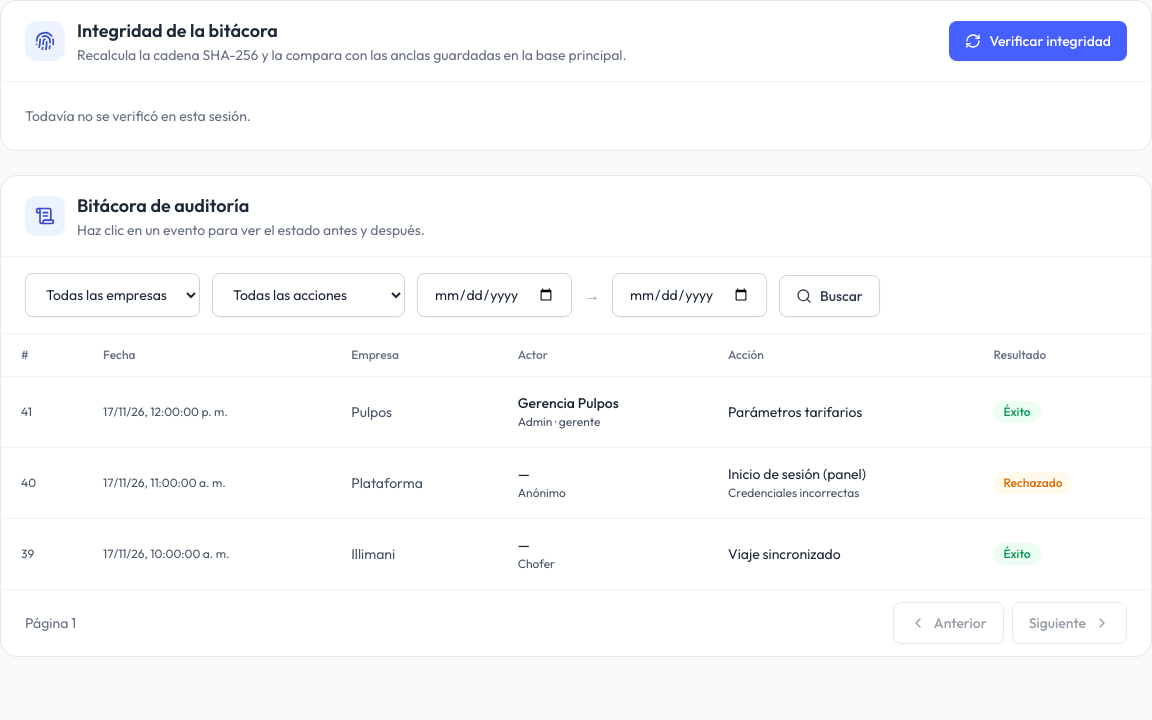
Test: Auditoría › plataforma: filtra por empresa y verifica la integridad
The width and height of the screenshot is (1152, 720).
Expected: the cell "Pulpos" is shown, [331,376,498,448]
Expected: the cell "Plataforma" is shown, [331,448,498,518]
Click the button "Verificar integridad".
click(1038, 41)  # box [950,21,1127,61]
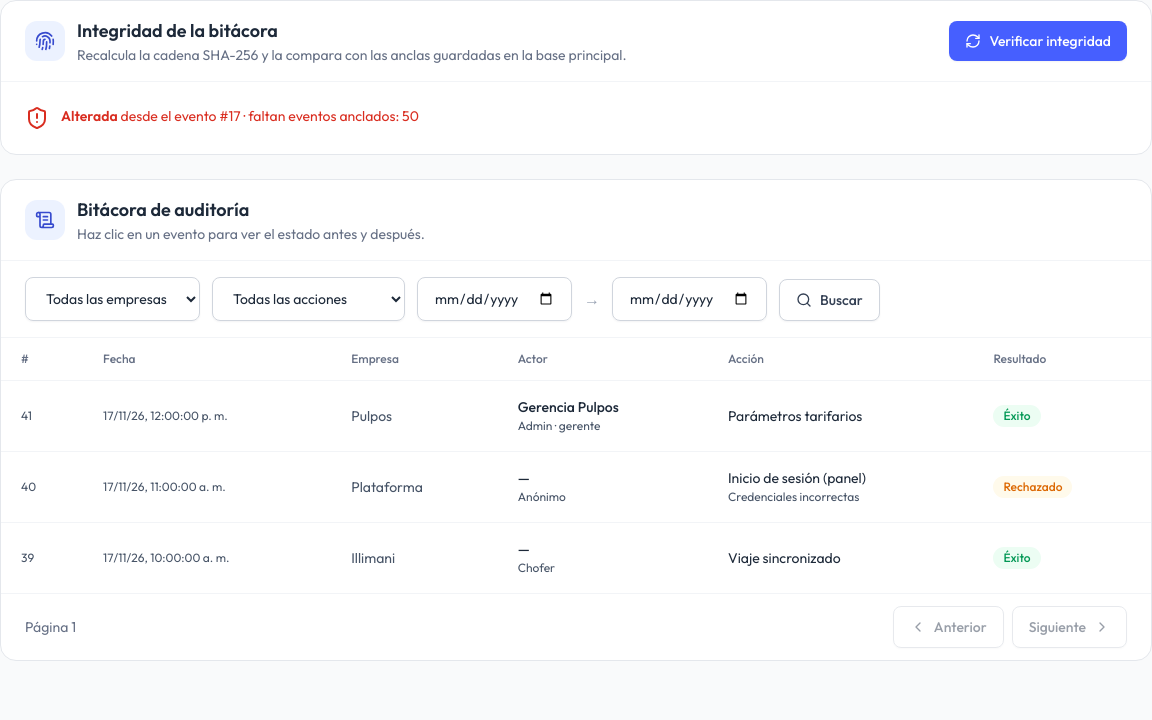
Expected: the text "Alterada desde el evento #17 · faltan eventos anclados: 50" is shown, [61,106,419,126]
